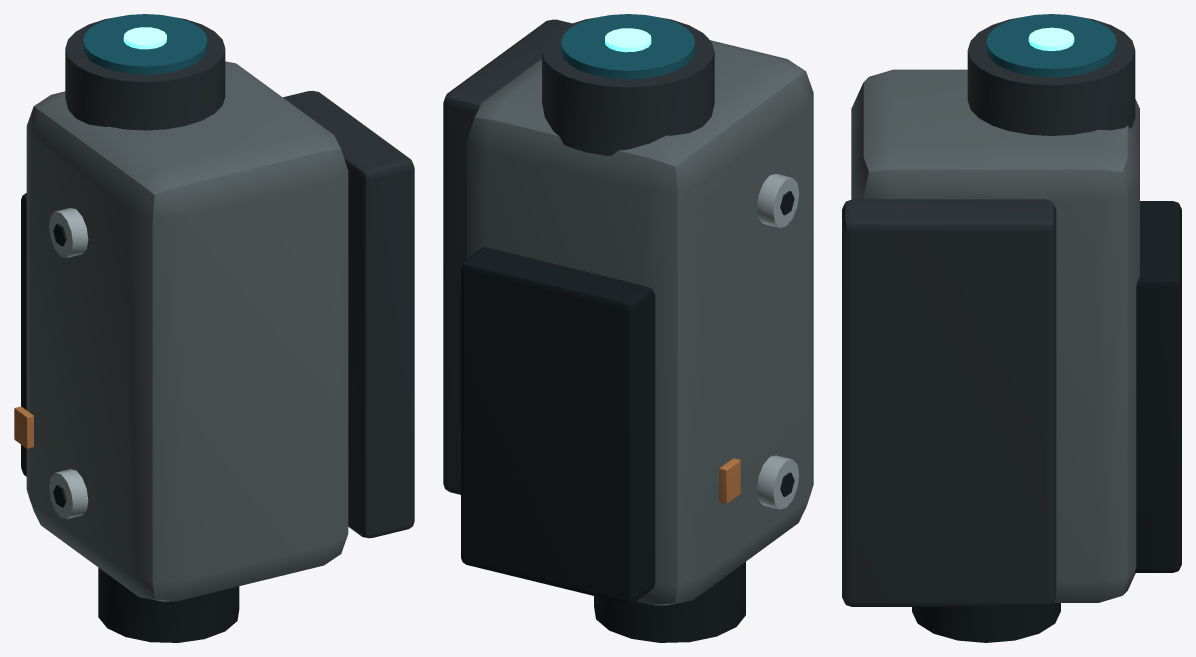
Rendered from laser-1.glb.
The picture shows the model from 3 angles, left to right: view 1: azimuth 30°, elevation 25°; view 2: azimuth 150°, elevation 25°; view 3: azimuth 270°, elevation 25°; orthographic projection. The views are drawn at different scales.
Visible parts, largest first — view 1: 01_Cerakote.011, 02_Graphite.015, 04_Elastomer.015, 06_OpticalGlass, 03_Titanium.015, 07_Indicator.001, 05_Copper.006; view 2: 01_Cerakote.011, 04_Elastomer.015, 02_Graphite.015, 06_OpticalGlass, 03_Titanium.015, 07_Indicator.001, 05_Copper.006; view 3: 02_Graphite.015, 01_Cerakote.011, 04_Elastomer.015, 06_OpticalGlass, 07_Indicator.001.
Part boxes in pixels (<box>): 01_Cerakote.011: <box>26,61,348,601</box>; 02_Graphite.015: <box>65,17,414,538</box>; 04_Elastomer.015: <box>21,193,239,642</box>; 06_OpticalGlass: <box>83,14,207,74</box>; 03_Titanium.015: <box>49,208,88,518</box>; 07_Indicator.001: <box>123,27,166,49</box>; 05_Copper.006: <box>14,406,33,448</box>; 01_Cerakote.011: <box>467,40,813,605</box>; 04_Elastomer.015: <box>461,191,794,642</box>; 02_Graphite.015: <box>443,18,714,494</box>; 06_OpticalGlass: <box>561,14,695,79</box>; 03_Titanium.015: <box>756,174,799,509</box>; 07_Indicator.001: <box>605,28,651,52</box>; 05_Copper.006: <box>719,458,740,503</box>; 02_Graphite.015: <box>842,17,1135,606</box>; 01_Cerakote.011: <box>851,69,1139,602</box>; 04_Elastomer.015: <box>912,201,1181,642</box>; 06_OpticalGlass: <box>986,14,1116,77</box>; 07_Indicator.001: <box>1028,27,1074,51</box>.
Size of the model in its own units: 0.0377 by 0.0685 by 0.0365.
